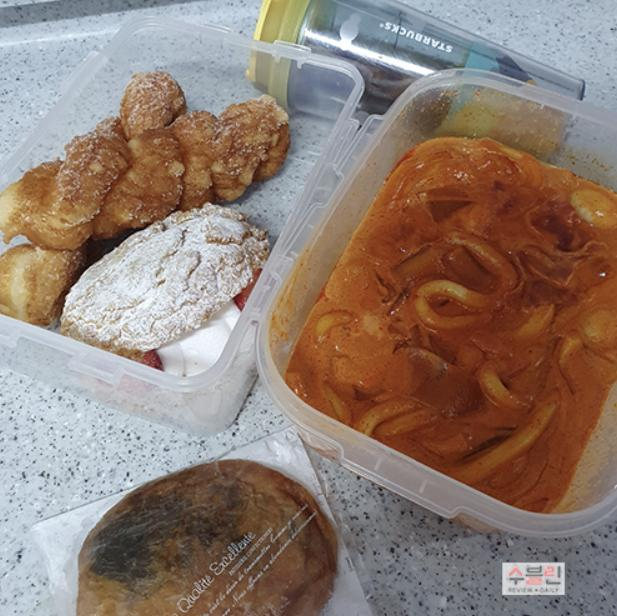Lunch Box: (256, 69, 616, 537), (0, 18, 363, 434)
